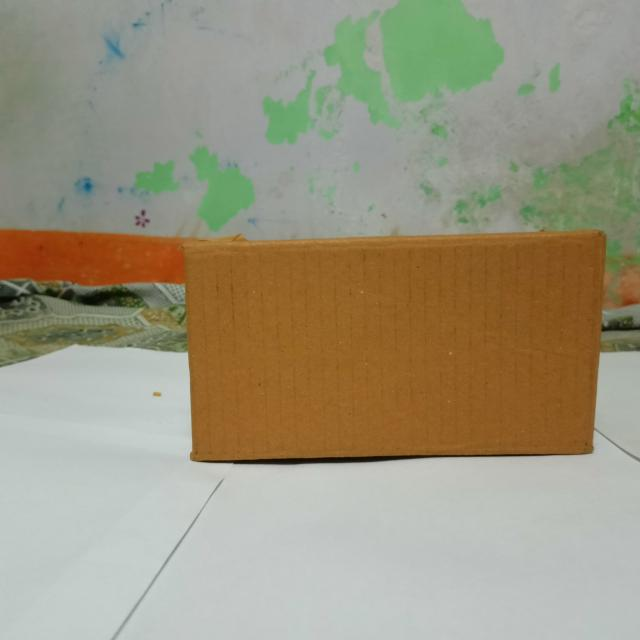box: (184, 234, 607, 460)
